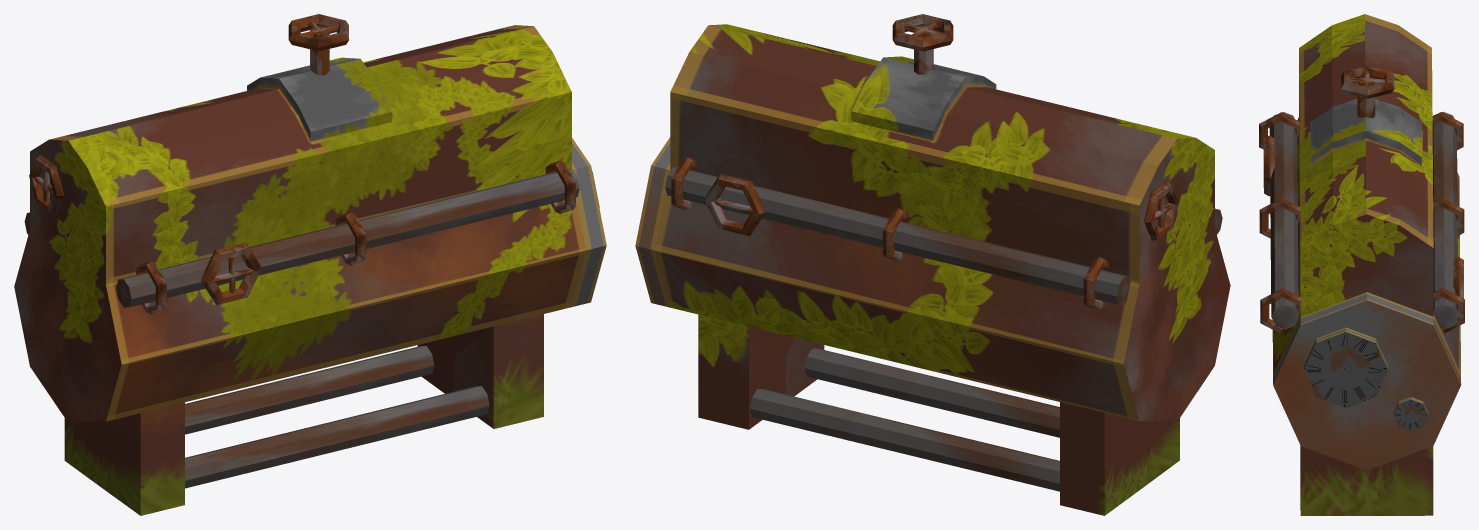
File: Maschinegrün3.fbx
3 views of the same model, side by side, from view 1: azimuth 30°, elevation 25°; view 2: azimuth 150°, elevation 25°; view 3: azimuth 270°, elevation 25° (orthographic). The views are drawn at different scales.
Parts seen in each view (by area): view 1: Cylinder, Cylinder.009, Cylinder.007, Cylinder.005, Cylinder.001, Torus.008, Torus.007, Torus.009, Torus.005, Torus.004, Torus.006; view 2: Cylinder, Cylinder.008, Cylinder.005, Cylinder.007, Cylinder.001, Torus.002, Torus.007, Torus.009, Torus.001, Torus, Torus.003; view 3: Cylinder, Cylinder.001, Cylinder.009, Cylinder.003, Cylinder.008, Torus.007, Cylinder.004, Torus.006, Torus.005, Torus.008, Torus.004, Torus (+4 smaller).
Part boxes in pixels (left/top/right/bottom): Cylinder: left=14, top=25, right=586, bottom=515; Cylinder.009: left=116, top=169, right=579, bottom=307; Cylinder.007: left=185, top=386, right=489, bottom=488; Cylinder.005: left=185, top=345, right=434, bottom=434; Cylinder.001: left=570, top=138, right=606, bottom=307; Torus.008: left=201, top=243, right=261, bottom=304; Torus.007: left=288, top=14, right=349, bottom=51; Torus.009: left=29, top=155, right=63, bottom=214; Torus.005: left=335, top=212, right=366, bottom=265; Torus.004: left=136, top=261, right=166, bottom=314; Torus.006: left=545, top=161, right=575, bottom=213; Cylinder: left=654, top=24, right=1230, bottom=515; Cylinder.008: left=665, top=167, right=1130, bottom=304; Cylinder.005: left=750, top=389, right=1059, bottom=491; Cylinder.007: left=804, top=348, right=1059, bottom=437; Cylinder.001: left=635, top=137, right=670, bottom=307; Torus.002: left=704, top=174, right=765, bottom=235; Torus.007: left=892, top=14, right=953, bottom=51; Torus.009: left=1143, top=181, right=1178, bottom=240; Torus.001: left=882, top=208, right=907, bottom=260; Torus: left=671, top=157, right=696, bottom=209; Torus.003: left=1083, top=257, right=1108, bottom=309; Cylinder: left=1272, top=14, right=1460, bottom=515; Cylinder.001: left=1273, top=292, right=1461, bottom=470; Cylinder.009: left=1269, top=112, right=1298, bottom=329; Cylinder.003: left=1304, top=327, right=1387, bottom=407; Cylinder.008: left=1432, top=111, right=1458, bottom=329; Torus.007: left=1341, top=66, right=1394, bottom=98; Cylinder.004: left=1393, top=397, right=1428, bottom=430; Torus.006: left=1260, top=288, right=1300, bottom=334; Torus.005: left=1259, top=198, right=1299, bottom=238; Torus.008: left=1263, top=135, right=1274, bottom=196; Torus.004: left=1259, top=112, right=1299, bottom=149; Torus: left=1433, top=288, right=1464, bottom=333.
Bounding box in the file's own units: 1087 × 841 × 438.
